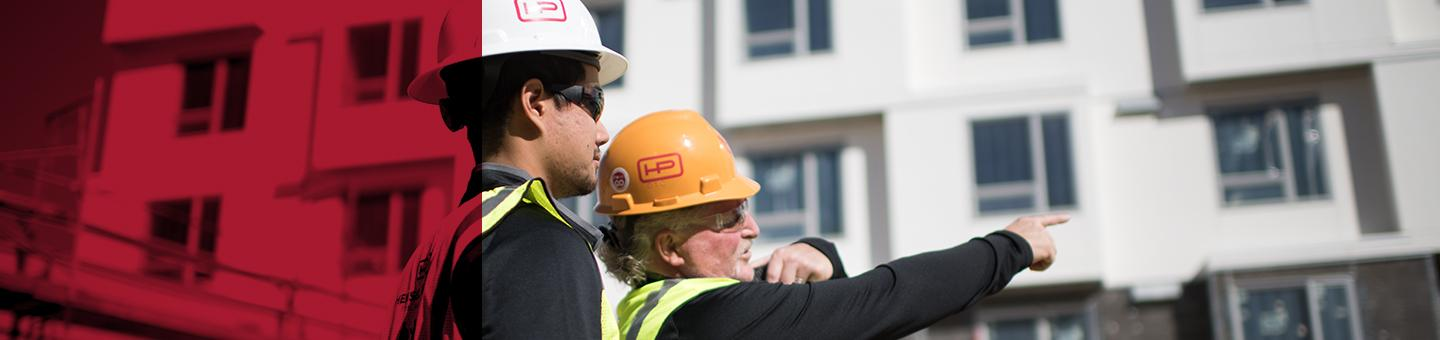helmet: (405, 1, 634, 108), (607, 111, 761, 215)
